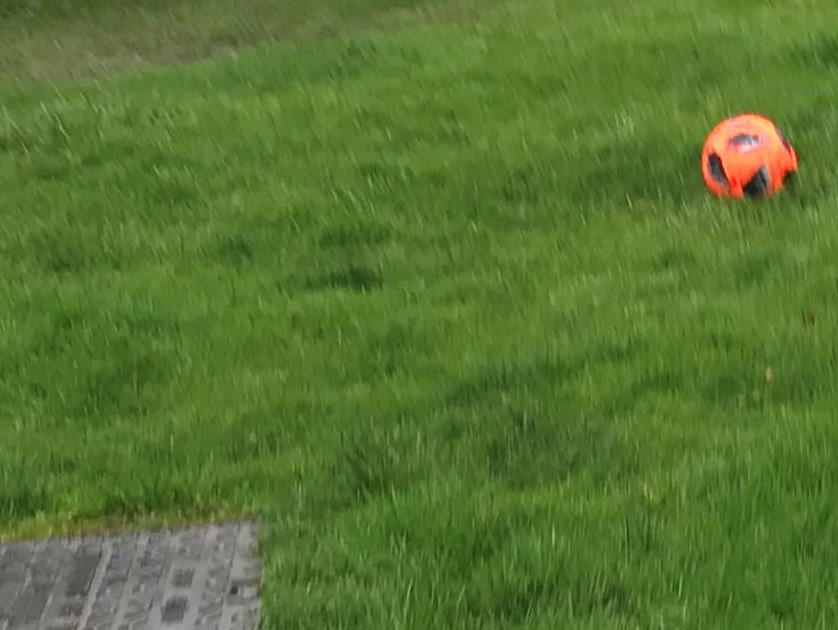football: (701, 115, 803, 197)
